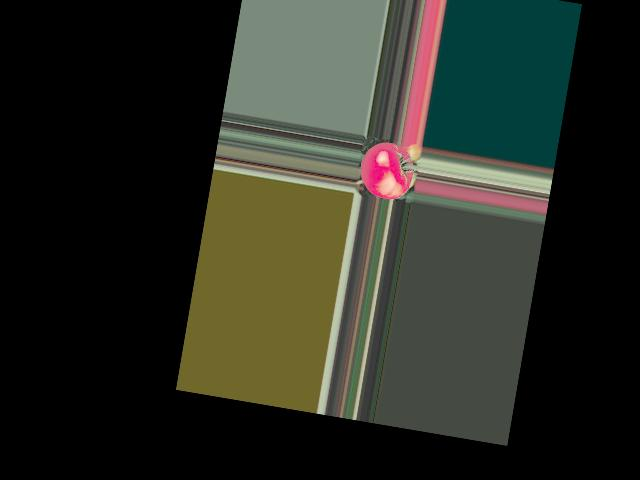tomato: (355, 139, 416, 202)
